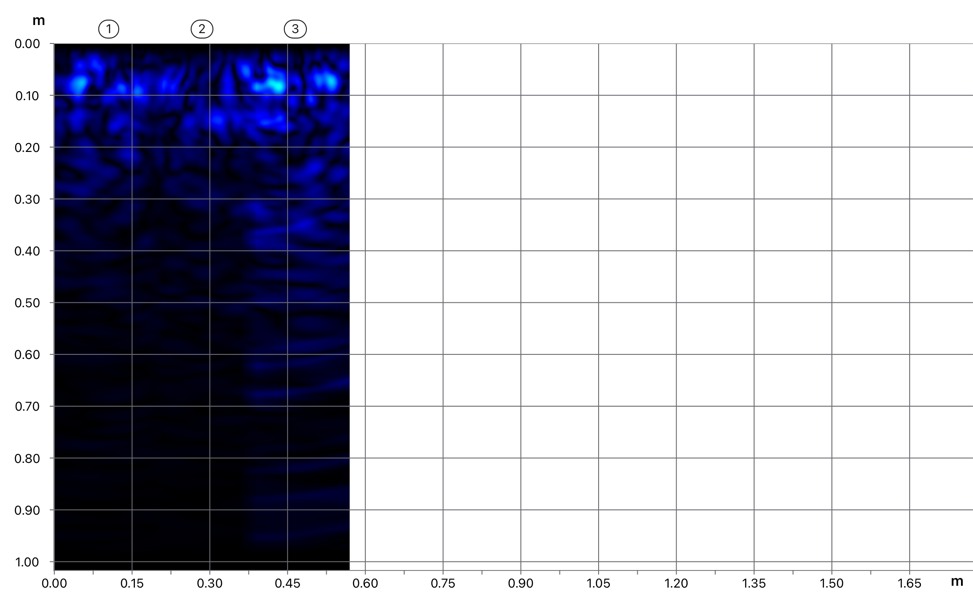crop: (1, 1, 351, 325)
